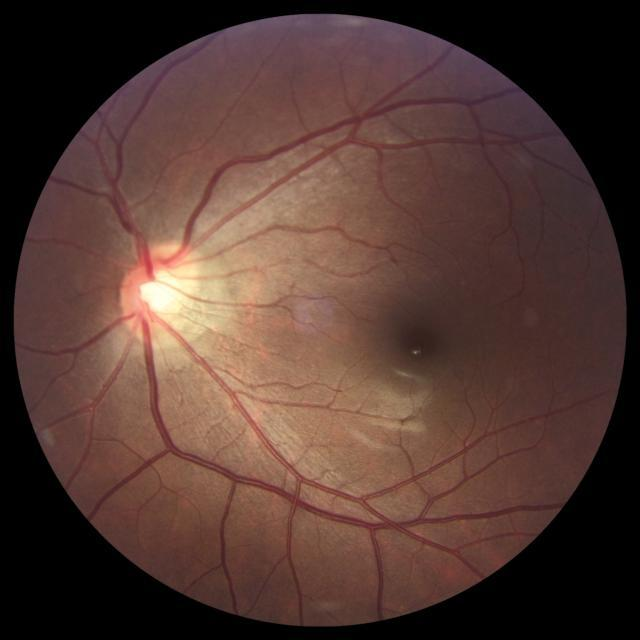OC: (138, 270, 182, 313)
OD: (119, 242, 198, 334)
